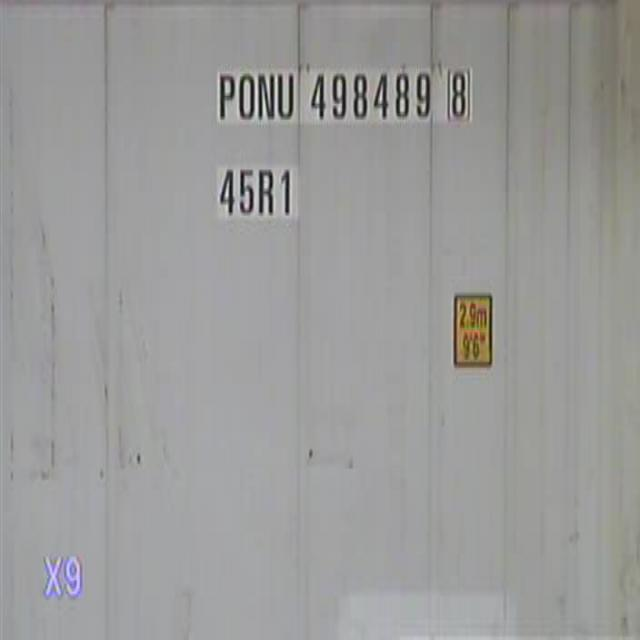container_number_h: (162, 48, 527, 263)
